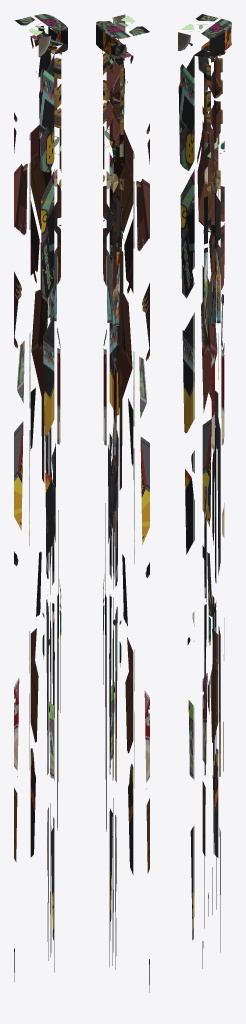
3 views of the same model, side by side, from view 1: azimuth 30°, elevation 25°; view 2: azimuth 210°, elevation 25°; view 3: azimuth 330°, elevation 25° (orthographic).
Size of the model in its own units: 0.0664 by 1.8 by 0.0814.
